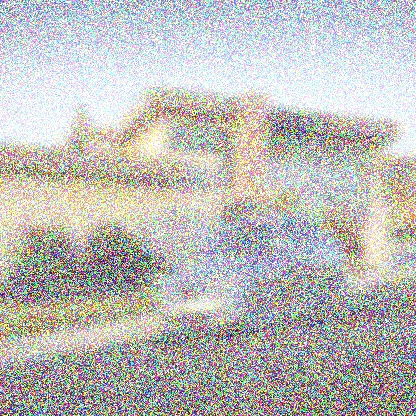Vehicle: (160, 212, 348, 338)
